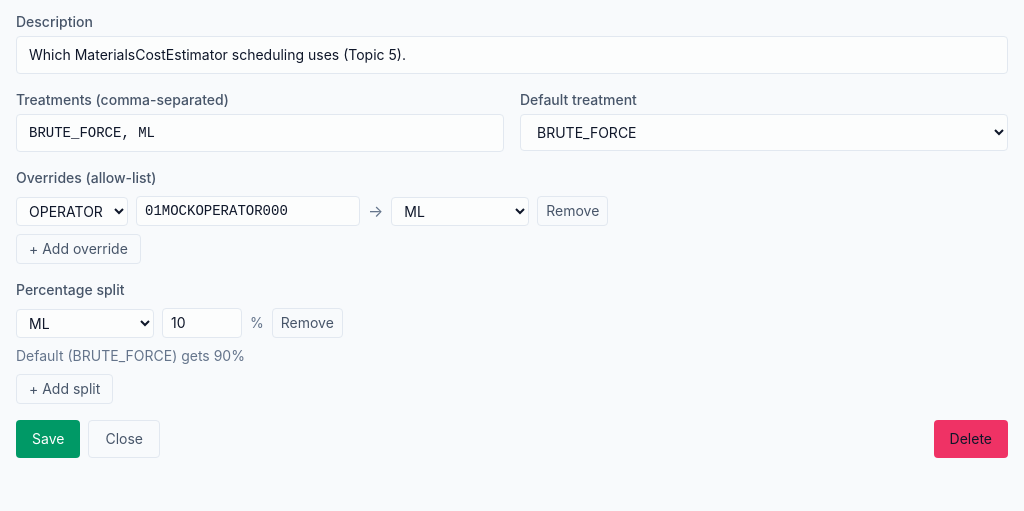
FeatureFlagEditor — existing flag › stringifies a non-Error failure
The width and height of the screenshot is (1024, 511).
Click the button "Save" at (48, 439), box x1=16 y1=420 x2=80 y2=458
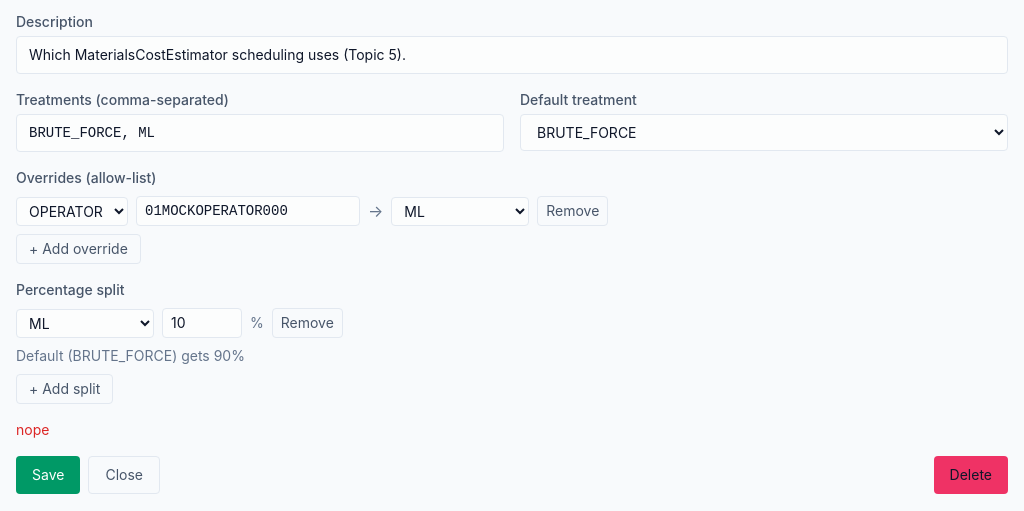
Check: the message reads "nope", box x1=16 y1=421 x2=49 y2=438
